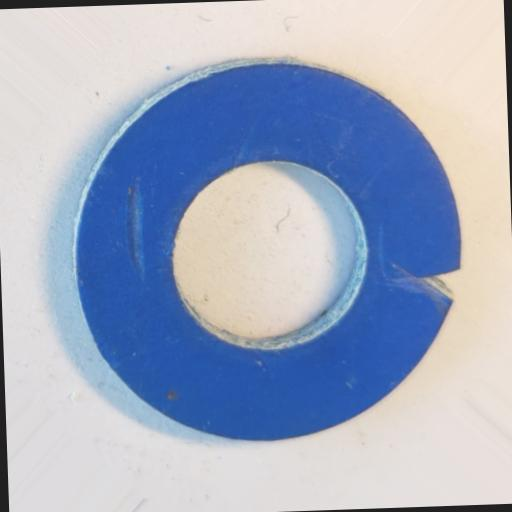defect: (386, 255, 458, 310), (122, 175, 148, 289)
